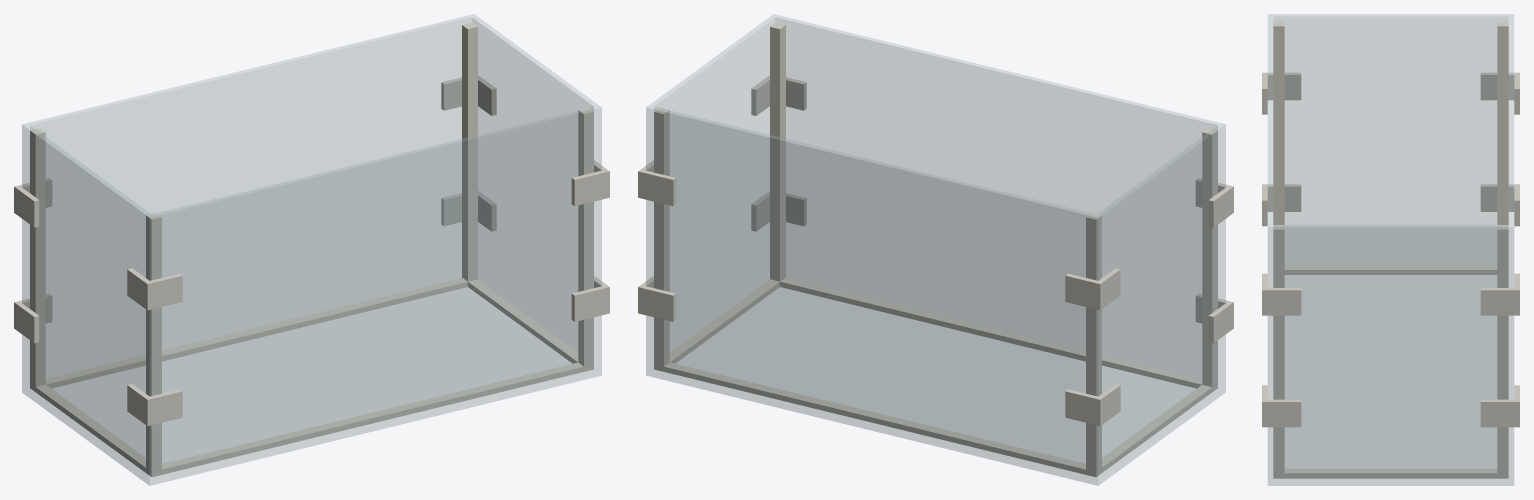
File: aquarium_medium_drying.glb
3 views of the same model, side by side, from view 1: azimuth 30°, elevation 25°; view 2: azimuth 150°, elevation 25°; view 3: azimuth 270°, elevation 25° (orthographic). The views are drawn at different scales.
Visible parts, largest first — view 1: aquarium_medium_drying:compound; view 2: aquarium_medium_drying:compound; view 3: aquarium_medium_drying:compound.
Boxes of the visible parts, x1,y1,x2,y2 form: aquarium_medium_drying:compound: (14, 14, 609, 485); aquarium_medium_drying:compound: (638, 14, 1233, 485); aquarium_medium_drying:compound: (1262, 14, 1519, 485).
Bounding box in the file's own units: 0.92 × 0.51 × 0.46.
